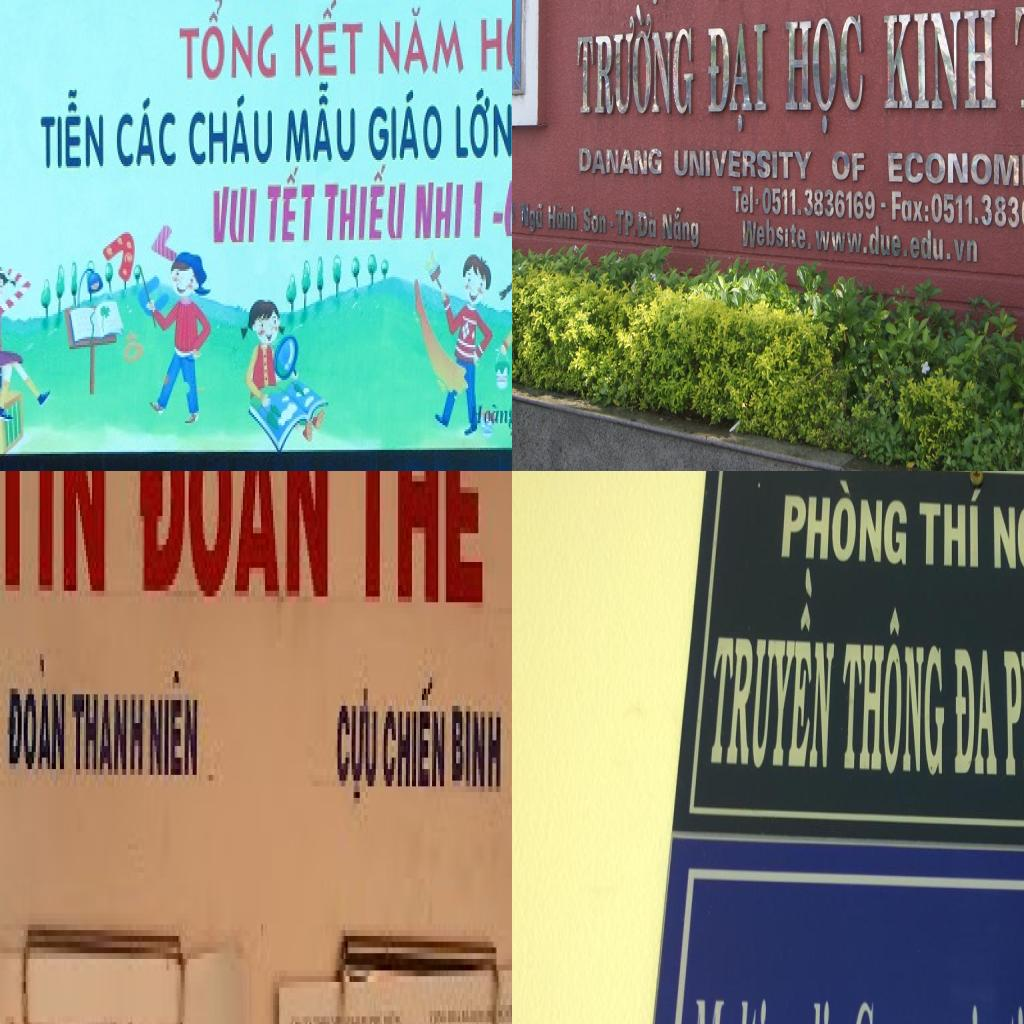text: (126, 471, 335, 613), (704, 562, 843, 772), (345, 471, 494, 625), (837, 596, 947, 780), (0, 471, 112, 619), (577, 3, 695, 116), (780, 471, 908, 571), (882, 6, 998, 116), (781, 14, 865, 136), (0, 648, 72, 786), (170, 0, 278, 85), (382, 666, 448, 804), (70, 683, 148, 792), (146, 654, 207, 792), (331, 671, 384, 815), (704, 22, 768, 136), (320, 164, 406, 248), (815, 226, 982, 269), (187, 90, 276, 170), (373, 4, 468, 76), (683, 982, 845, 1024), (952, 638, 999, 781), (281, 80, 358, 166), (34, 86, 108, 174), (919, 476, 984, 572), (364, 84, 445, 160), (289, 0, 365, 79), (886, 148, 1024, 189), (113, 92, 179, 170), (673, 147, 813, 183), (263, 168, 319, 250), (450, 88, 512, 160), (932, 189, 1024, 233), (762, 187, 876, 222), (206, 178, 260, 250), (412, 179, 466, 242), (993, 485, 1024, 594), (739, 215, 813, 258), (474, 10, 512, 88), (576, 144, 663, 178), (487, 174, 512, 248), (659, 207, 702, 248), (889, 188, 931, 223), (829, 149, 868, 184), (468, 402, 512, 433), (468, 176, 486, 244), (548, 199, 578, 233), (522, 197, 544, 234), (616, 205, 639, 239), (582, 204, 607, 235), (637, 207, 658, 242), (731, 185, 755, 215), (512, 198, 516, 226), (879, 198, 888, 210), (608, 218, 616, 228), (755, 197, 759, 207)
